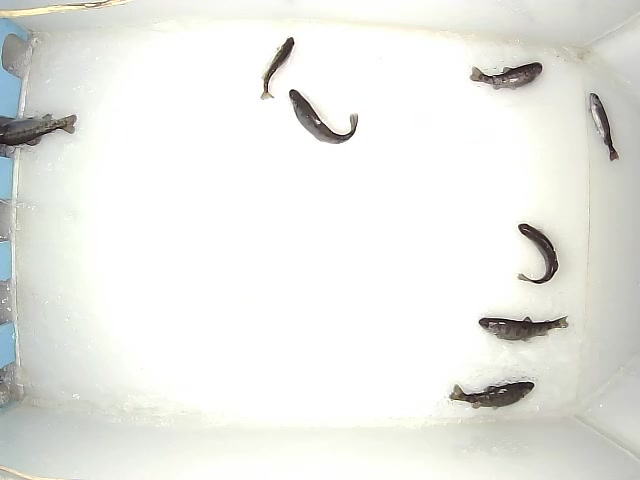fish: (289, 89, 358, 144), (1, 113, 77, 146), (518, 223, 559, 284), (478, 315, 569, 342), (449, 382, 535, 409), (259, 36, 295, 100), (469, 61, 543, 90), (589, 93, 620, 162)
